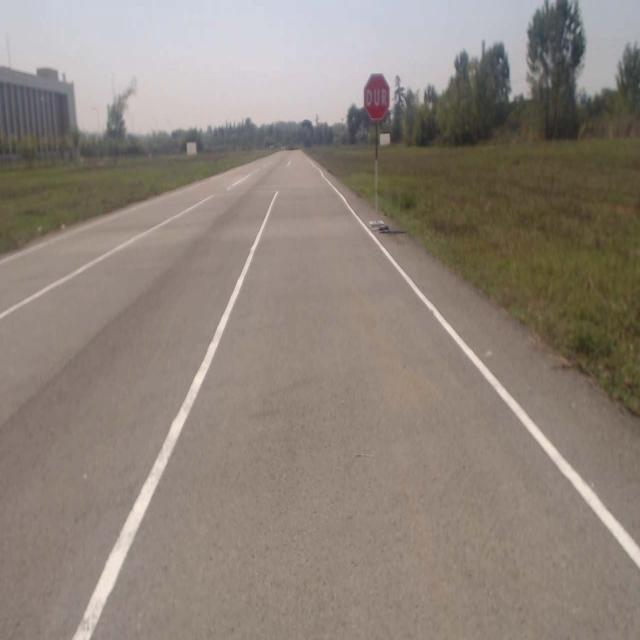dur: (365, 74, 389, 120)
